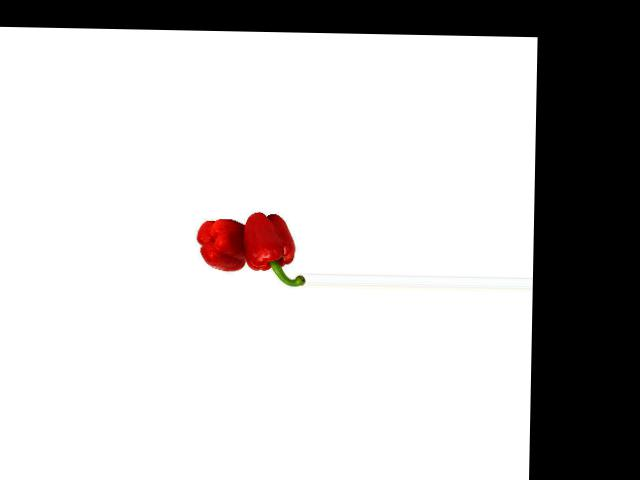bell_pepper: (196, 215, 246, 274)
